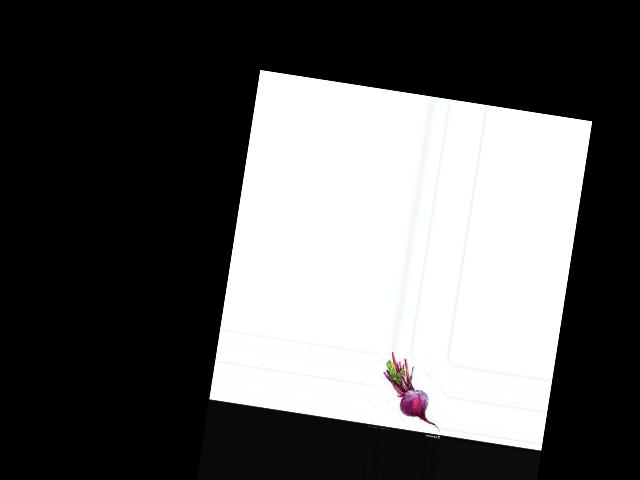beet: (375, 350, 450, 431)
